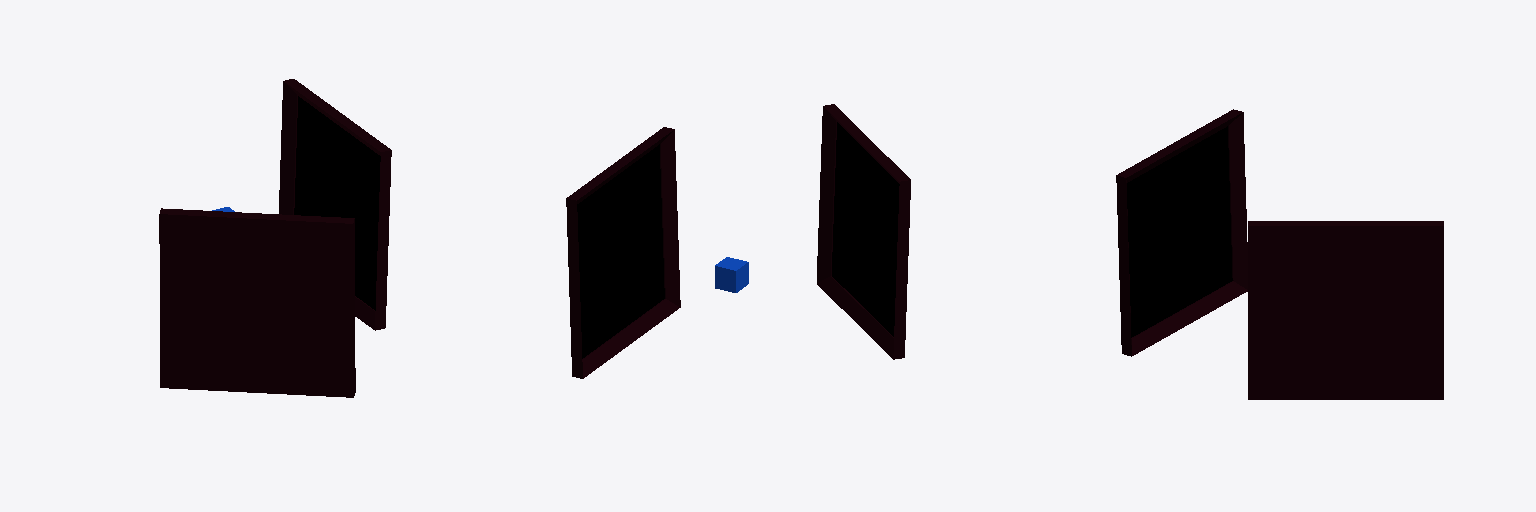
The model's file is mirrors.obj.
The picture shows the model from 3 angles: view 1: azimuth 30°, elevation 25°; view 2: azimuth 150°, elevation 25°; view 3: azimuth 270°, elevation 25°; orthographic projection.
Parts seen in each view (by area): view 1: 14319_Artik_Mirror-Black_v1_l1.000_14319_Artik_Mirror-Black_v1_l, 14319_Artik_Mirror-Black_v1_l1.001; view 2: 14319_Artik_Mirror-Black_v1_l1.001, 14319_Artik_Mirror-Black_v1_l1.000_14319_Artik_Mirror-Black_v1_l, Cube_Cube.002; view 3: 14319_Artik_Mirror-Black_v1_l1.001, 14319_Artik_Mirror-Black_v1_l1.000_14319_Artik_Mirror-Black_v1_l.
Part boxes in pixels (bbox=[...]): 14319_Artik_Mirror-Black_v1_l1.000_14319_Artik_Mirror-Black_v1_l: bbox=[159, 208, 355, 397]; 14319_Artik_Mirror-Black_v1_l1.001: bbox=[279, 79, 391, 330]; 14319_Artik_Mirror-Black_v1_l1.001: bbox=[566, 127, 680, 378]; 14319_Artik_Mirror-Black_v1_l1.000_14319_Artik_Mirror-Black_v1_l: bbox=[817, 104, 910, 359]; Cube_Cube.002: bbox=[715, 257, 748, 292]; 14319_Artik_Mirror-Black_v1_l1.001: bbox=[1248, 221, 1443, 399]; 14319_Artik_Mirror-Black_v1_l1.000_14319_Artik_Mirror-Black_v1_l: bbox=[1116, 109, 1247, 356].
Bounding box in the file's own units: 22.31 × 15.76 × 26.37.